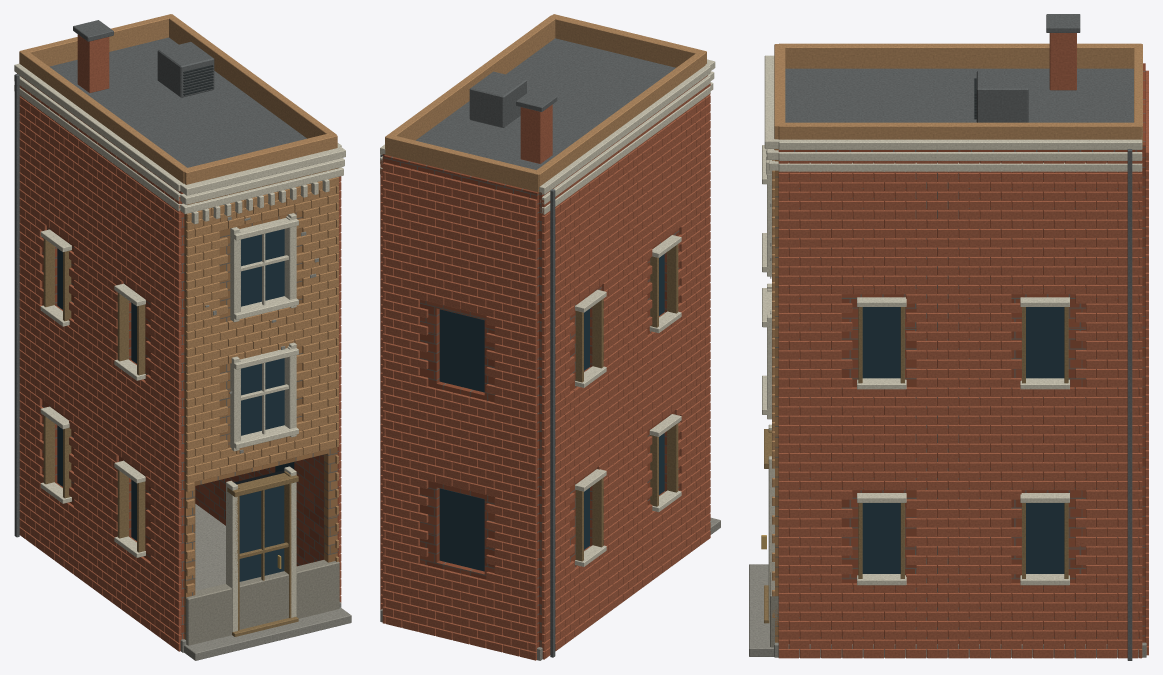
Rendered from RUNDWN17_lod0.glb.
3 views of the same model, side by side, from view 1: azimuth 30°, elevation 25°; view 2: azimuth 150°, elevation 25°; view 3: azimuth 270°, elevation 25° (orthographic). The views are drawn at different scales.
Parts seen in each view (by area): view 1: RUNDWN17_LOD0; view 2: RUNDWN17_LOD0; view 3: RUNDWN17_LOD0.
Boxes of the visible parts, <box> form: RUNDWN17_LOD0: <box>14,14,351,660</box>; RUNDWN17_LOD0: <box>380,14,720,660</box>; RUNDWN17_LOD0: <box>749,14,1148,660</box>.
Size of the model in its own units: 3.71 by 10.45 by 6.6.
17 materials, 14 textured.
